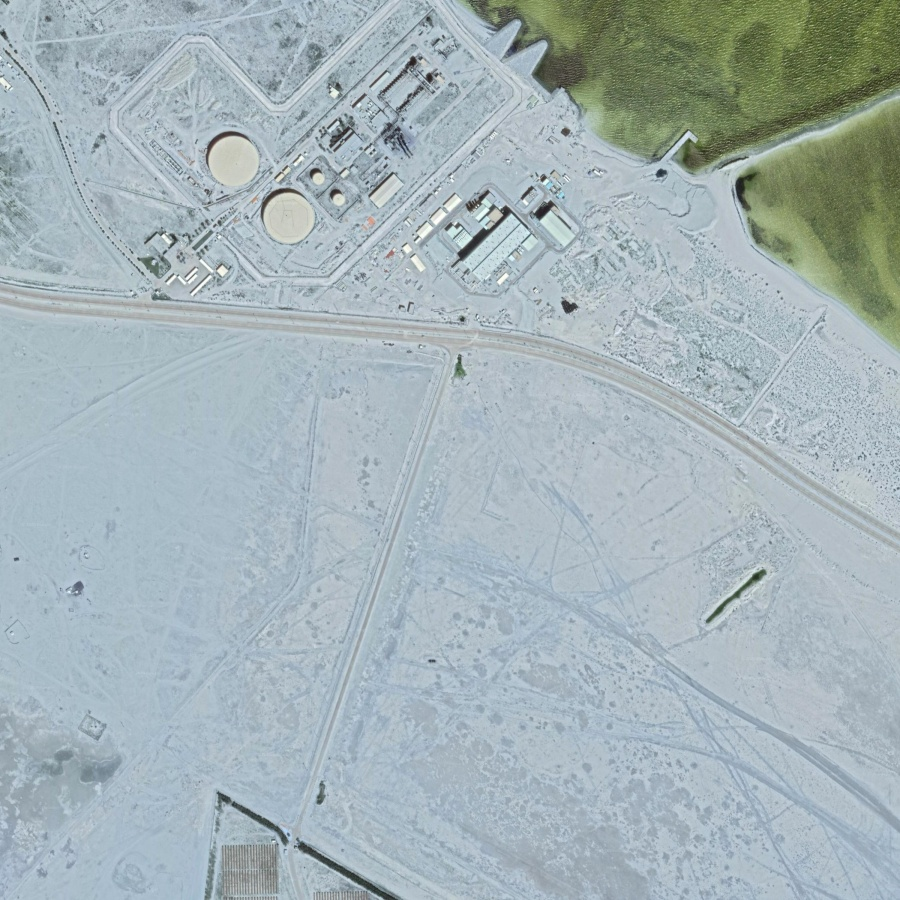PowerPlant: (185, 26, 590, 313)
